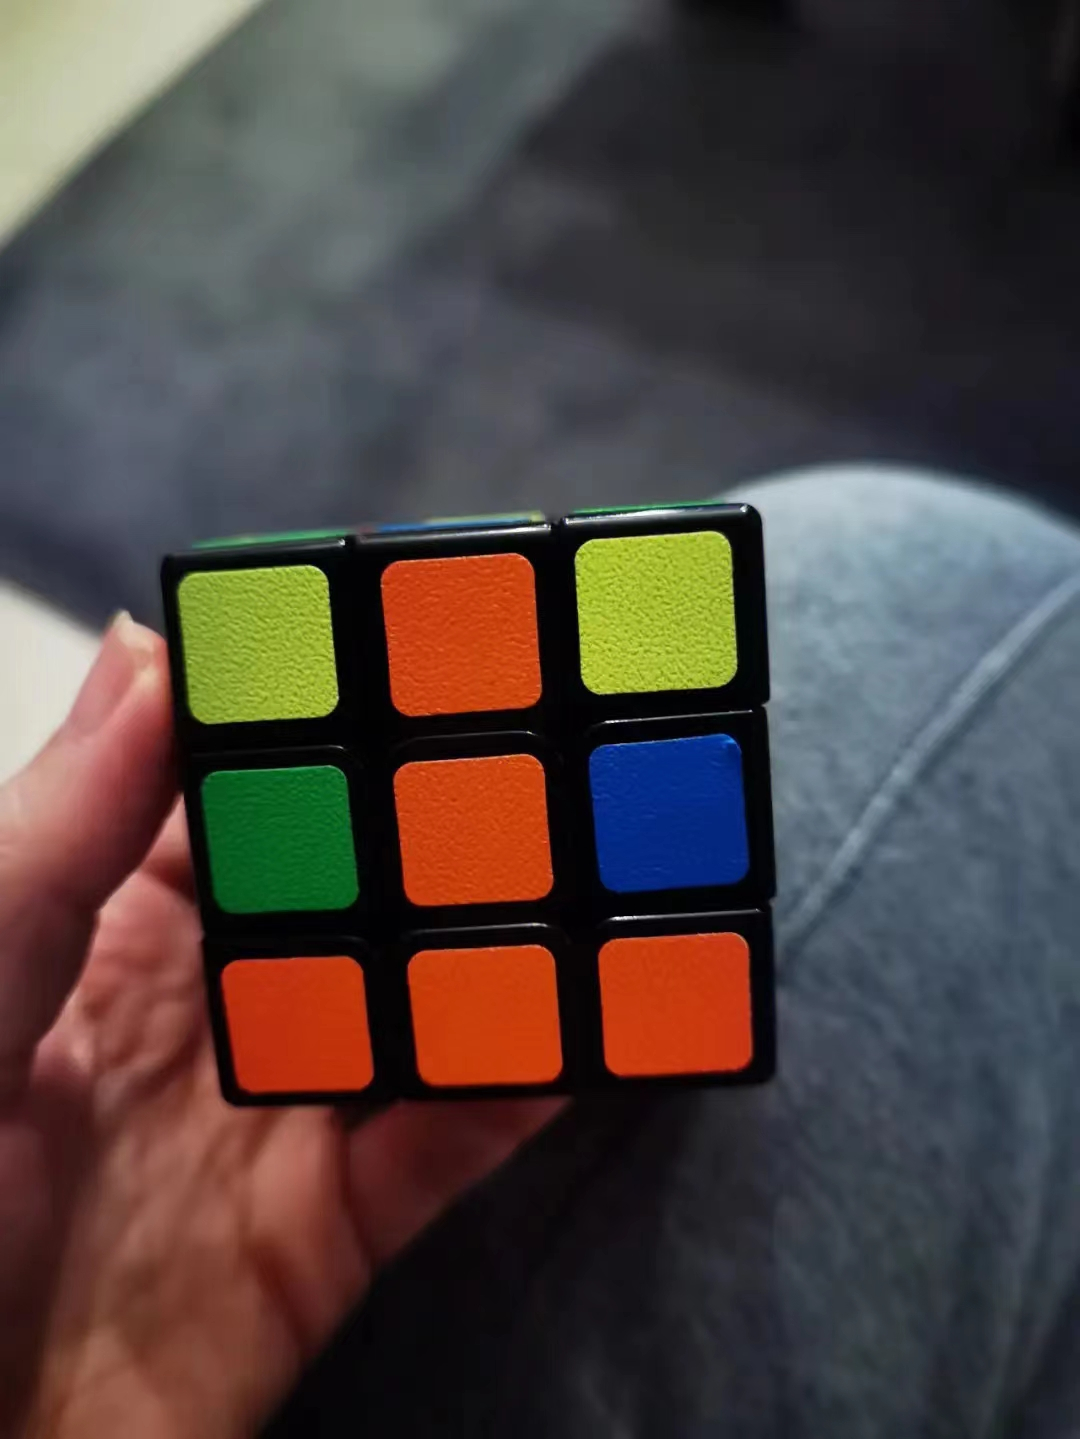cube: (153, 487, 794, 1119)
